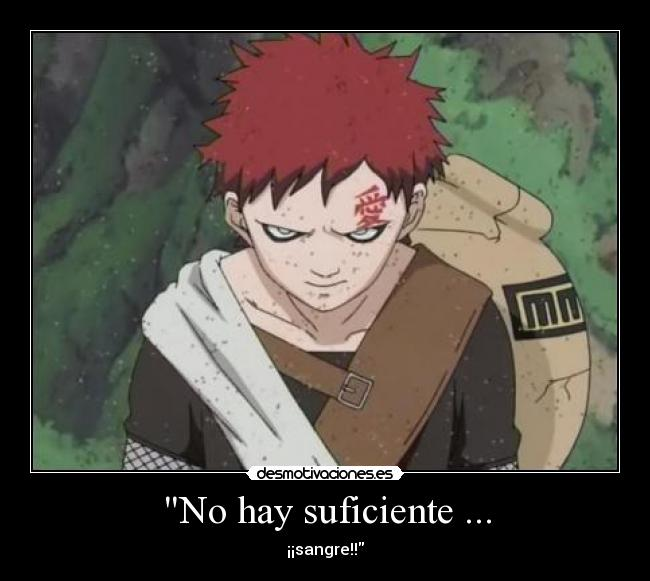gaara: (222, 145, 429, 313)
